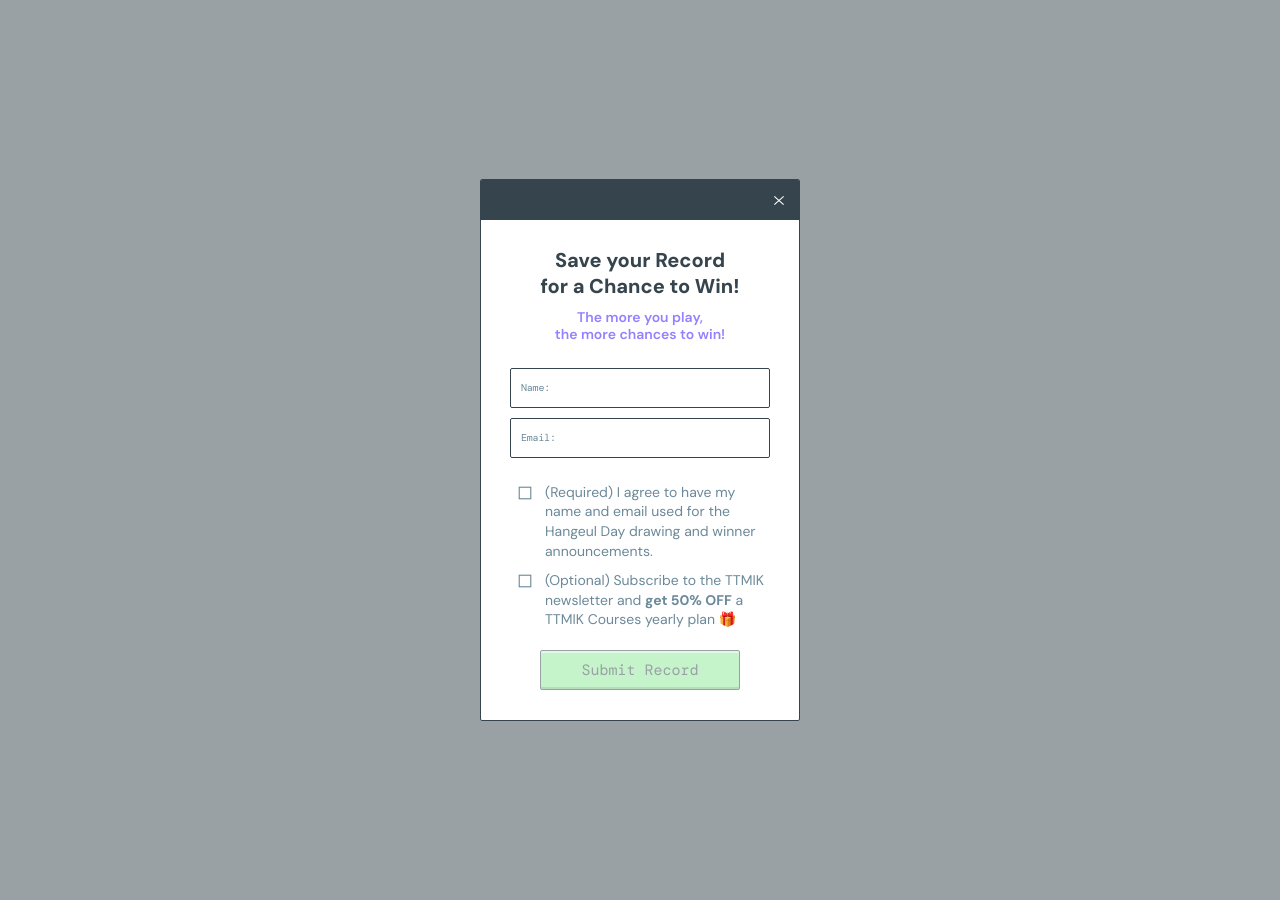
it: SubmitRecordPopup 동의 항목 › 필수 동의 전에는 저장 버튼이 비활성이다
expect the button "Submit Record" is disabled: met, box [540,650,740,690]
Click the checkbox with test id "consent-required".
click(525, 493)  # box [515,483,535,503]
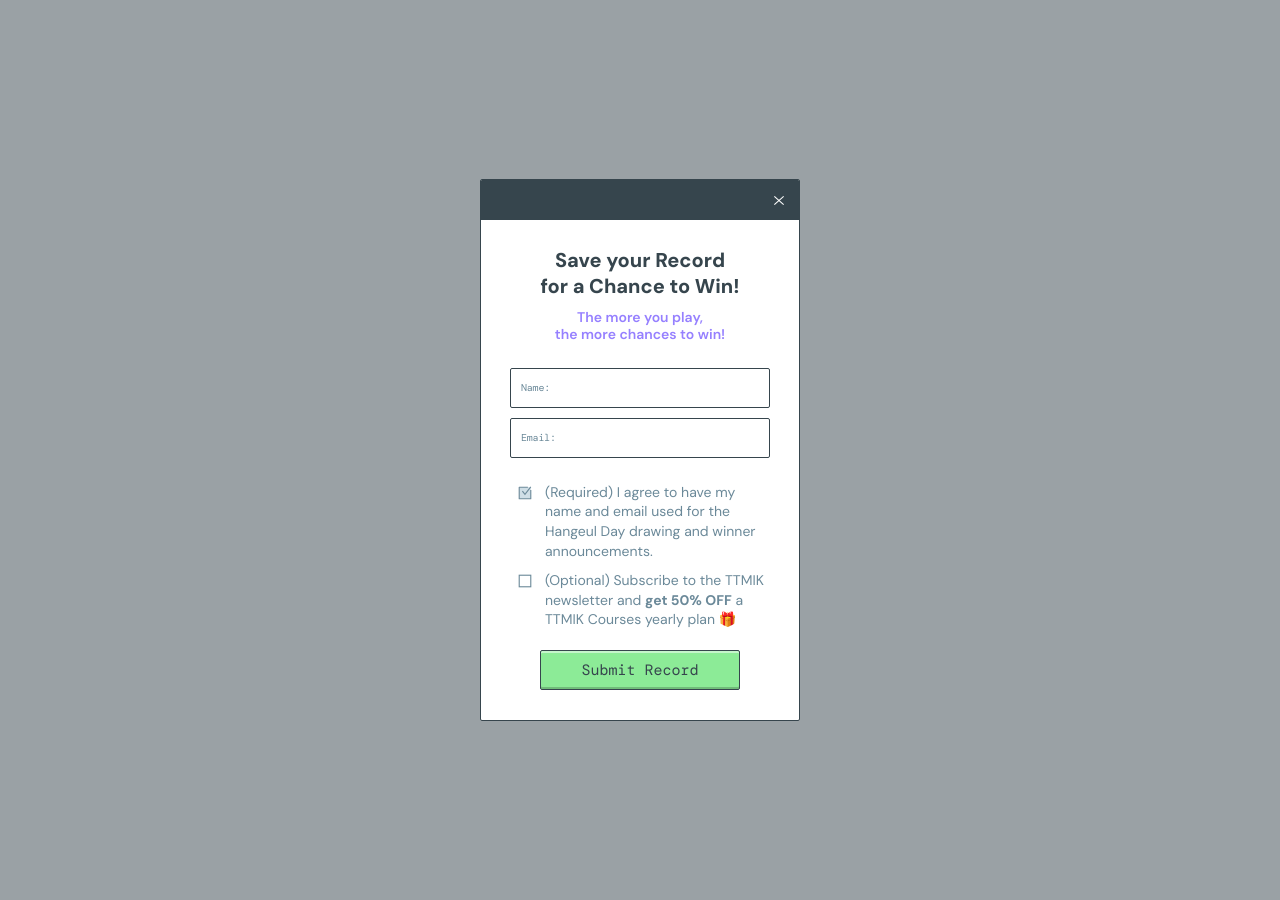
expect the button "Submit Record" is enabled: met, box [540,650,740,690]
